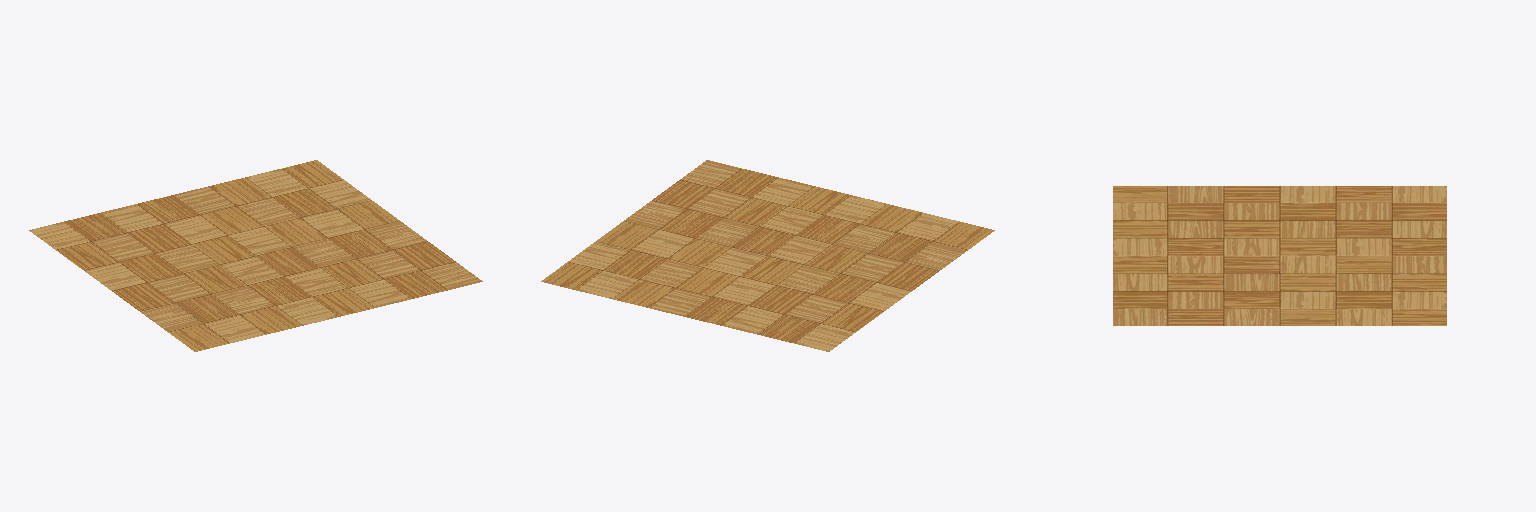
3 renders of one model, left to right at view 1: azimuth 30°, elevation 25°; view 2: azimuth 150°, elevation 25°; view 3: azimuth 270°, elevation 25°, orthographic.
Parts seen in each view (by area): view 1: 平面; view 2: 平面; view 3: 平面.
Part boxes in pixels (bbox=[...]): 平面: bbox=[29, 160, 482, 351]; 平面: bbox=[541, 160, 994, 351]; 平面: bbox=[1113, 186, 1446, 325].
Size of the model in its own units: 19.75 by 0 by 19.75.
Materials: 1 (1 with a texture image).